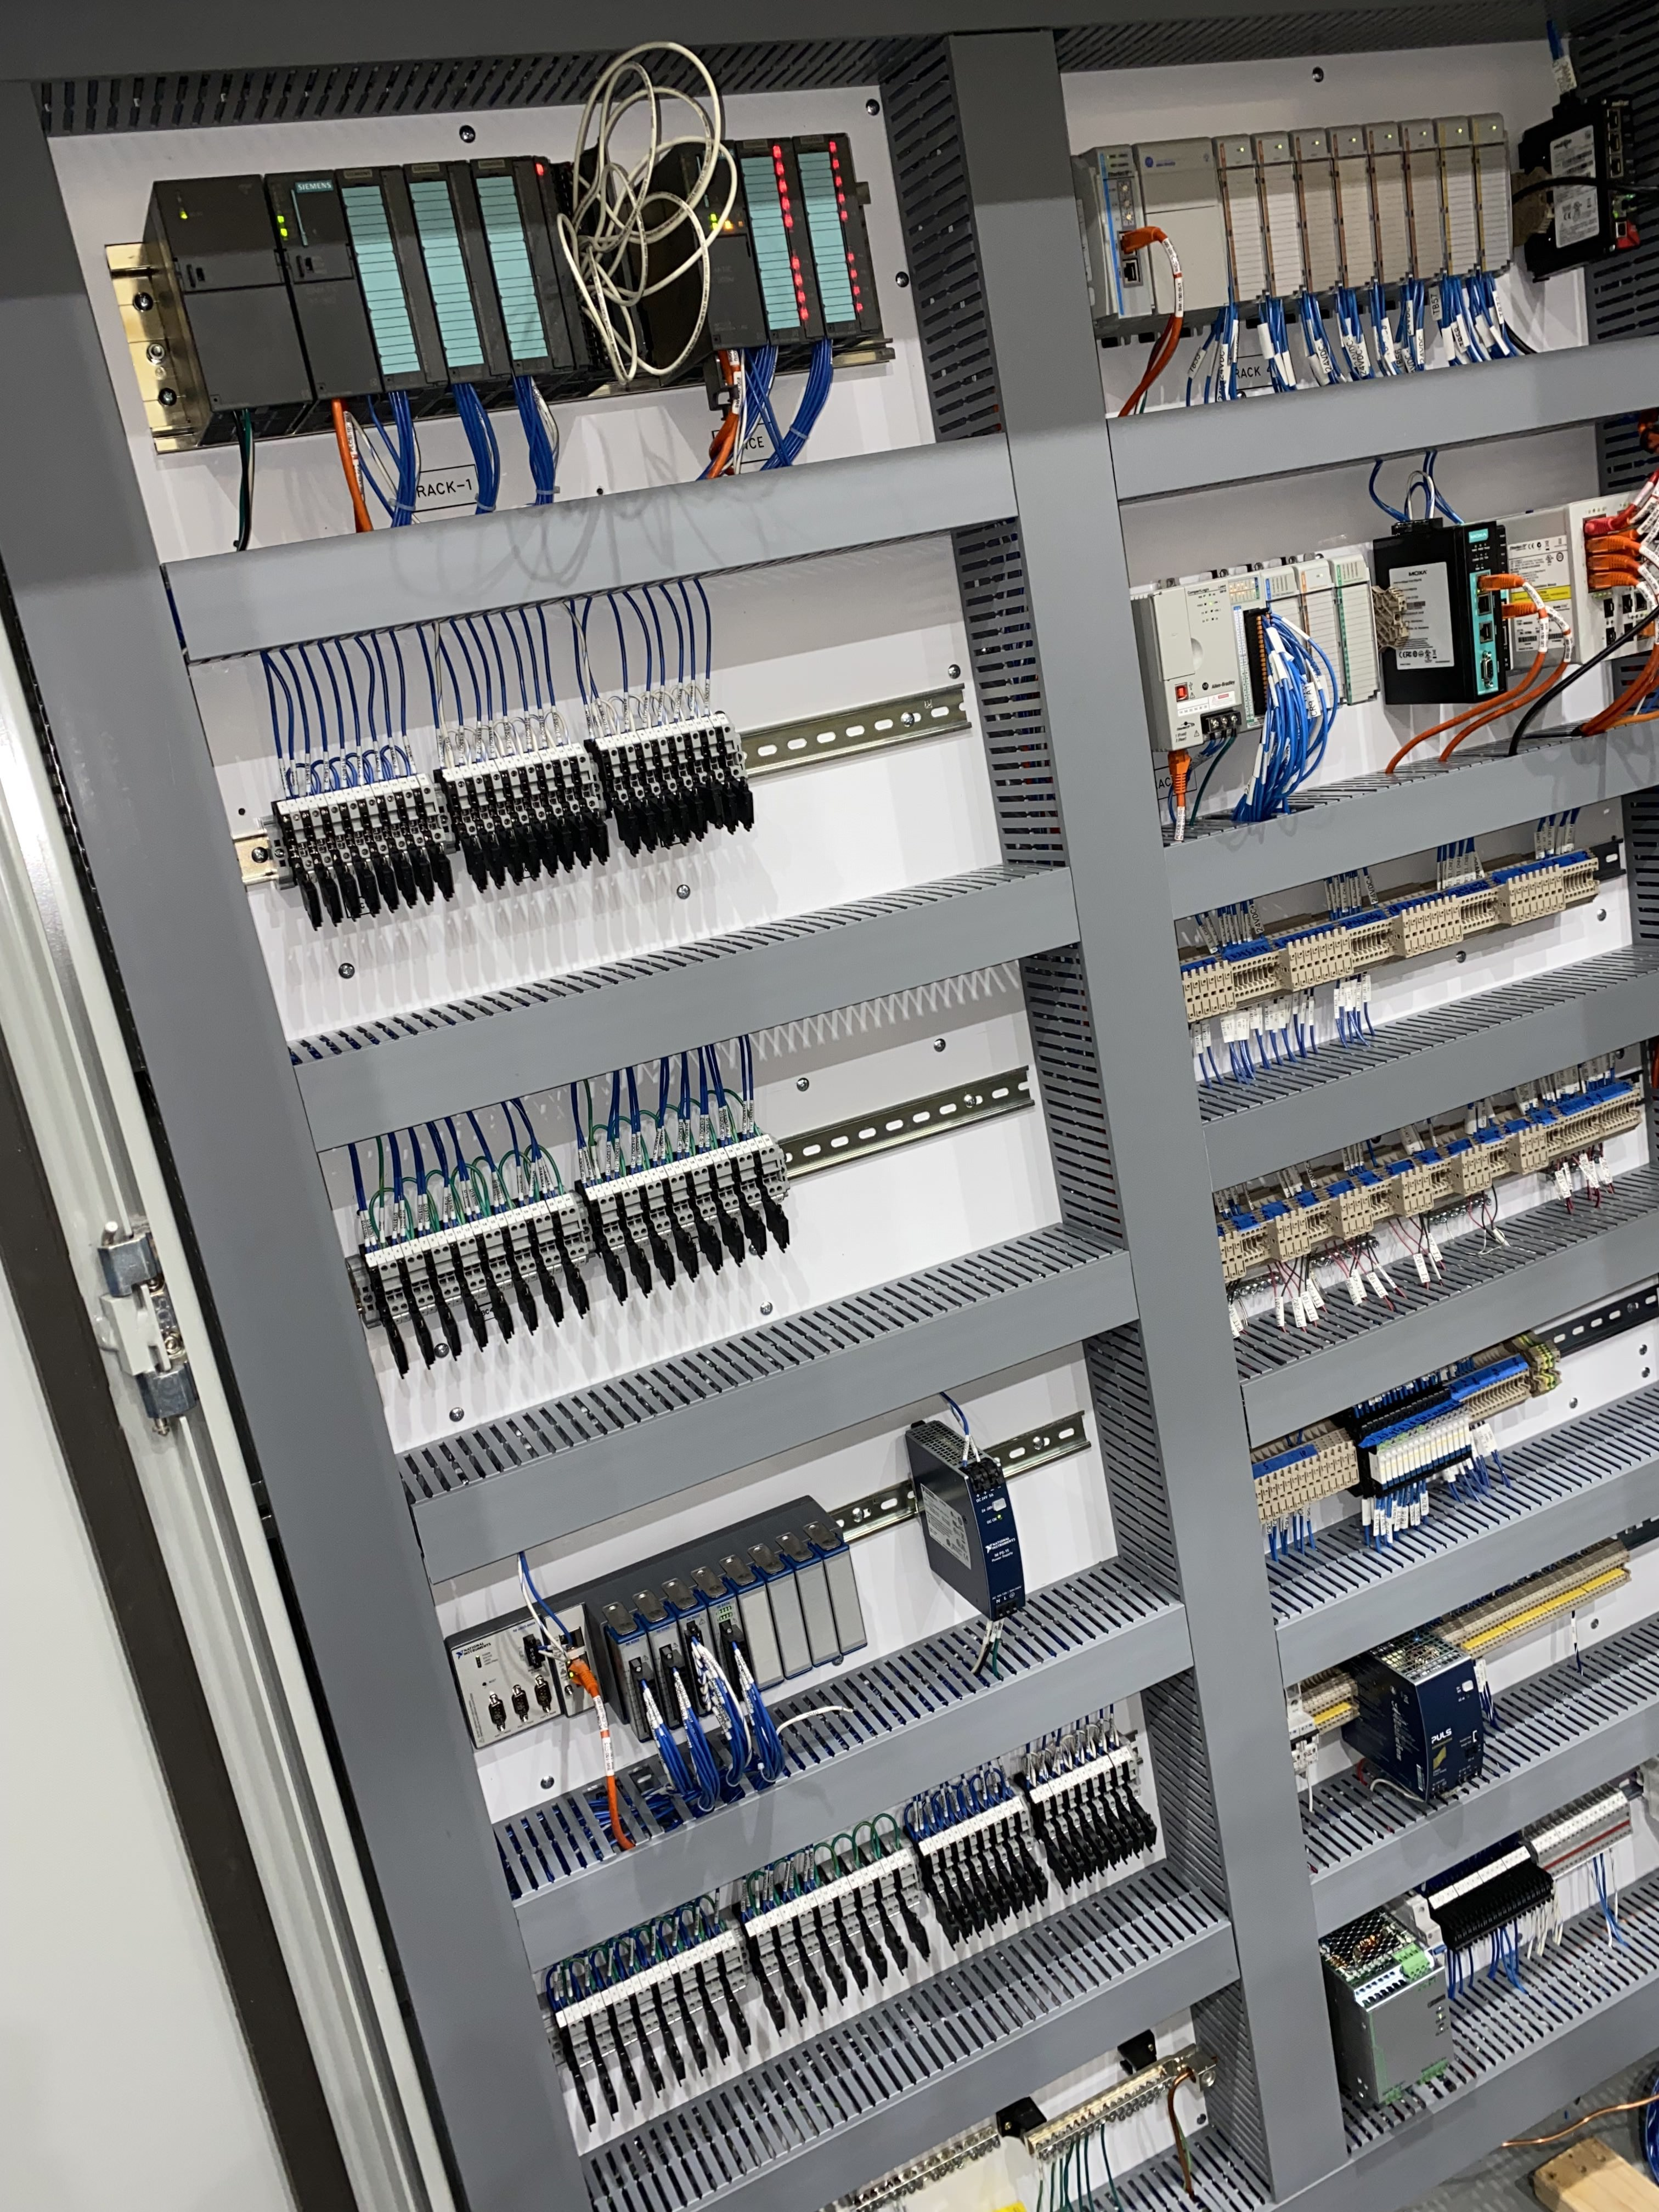AllenBradley: (1140, 564, 1244, 759)
Siemens: (261, 164, 392, 416)
